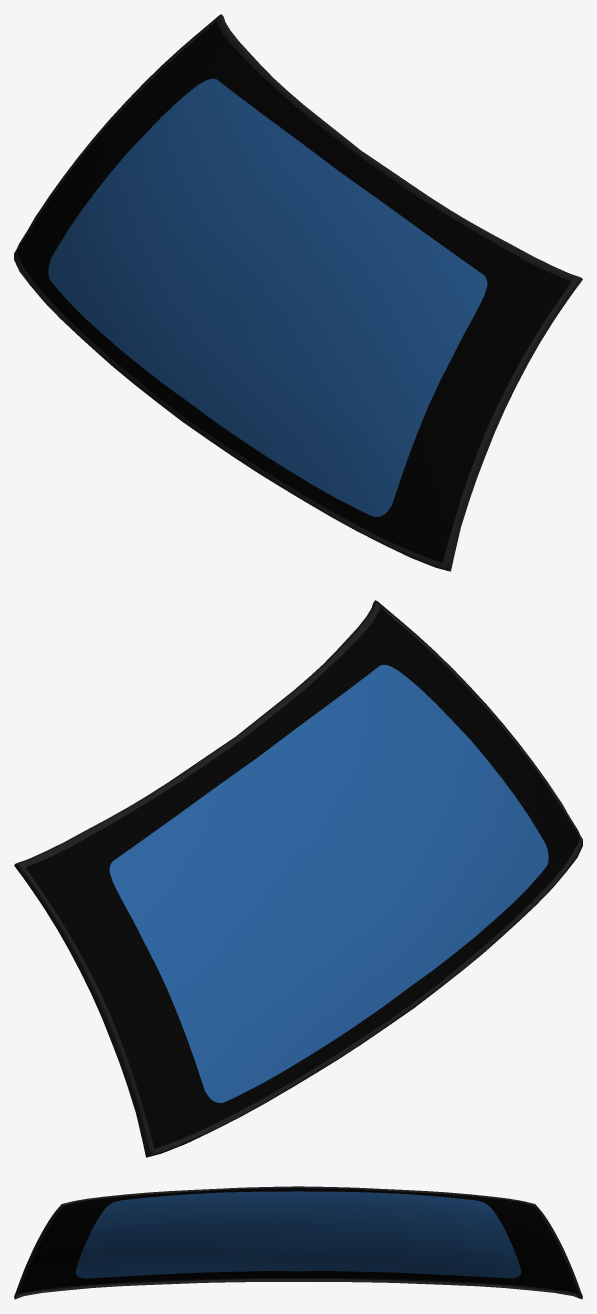
3 renders of one model, top to bottom at view 1: azimuth 30°, elevation 25°; view 2: azimuth 150°, elevation 25°; view 3: azimuth 270°, elevation 25°, orthographic. The views are drawn at different scales.
Parts seen in each view (by area): view 1: N664_9A_464N_C_1_DTaSI_N664_9A_464N_C, N664_9A_464N_C_N664_9A_464N_C_2_DTaSI, N664_9A_464N_C_N664_9A_464N_C_3_D; view 2: N664_9A_464N_C_1_DTaSI_N664_9A_464N_C, N664_9A_464N_C_N664_9A_464N_C_2_DTaSI, N664_9A_464N_C_N664_9A_464N_C_3_D; view 3: N664_9A_464N_C_1_DTaSI_N664_9A_464N_C, N664_9A_464N_C_N664_9A_464N_C_2_DTaSI, N664_9A_464N_C_N664_9A_464N_C_3_D.
Part boxes in pixels (x1,y1,x2,y2): N664_9A_464N_C_1_DTaSI_N664_9A_464N_C: [48, 79, 487, 516]; N664_9A_464N_C_N664_9A_464N_C_2_DTaSI: [17, 21, 571, 562]; N664_9A_464N_C_N664_9A_464N_C_3_D: [14, 14, 582, 571]; N664_9A_464N_C_1_DTaSI_N664_9A_464N_C: [109, 665, 548, 1102]; N664_9A_464N_C_N664_9A_464N_C_2_DTaSI: [25, 607, 579, 1148]; N664_9A_464N_C_N664_9A_464N_C_3_D: [14, 600, 582, 1157]; N664_9A_464N_C_1_DTaSI_N664_9A_464N_C: [75, 1191, 521, 1278]; N664_9A_464N_C_N664_9A_464N_C_2_DTaSI: [19, 1188, 577, 1292]; N664_9A_464N_C_N664_9A_464N_C_3_D: [14, 1186, 582, 1299].
Bounding box in the file's own units: 44.1 × 44.47 × 150.
